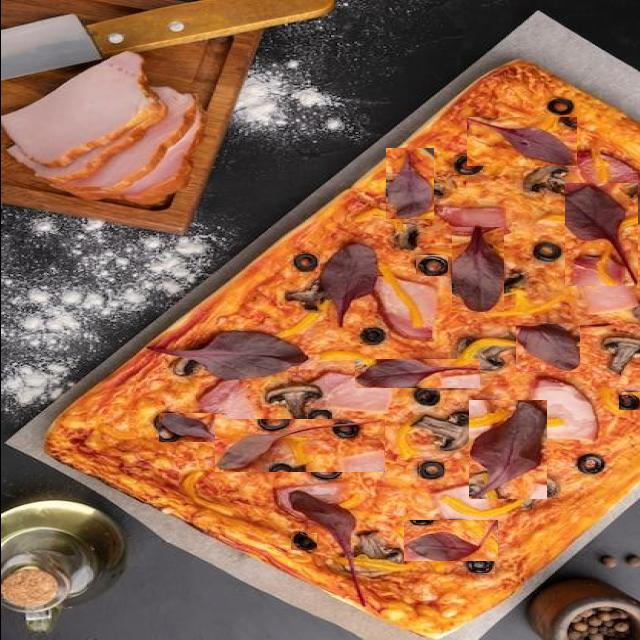basil: (287, 490, 367, 606), (214, 419, 384, 472), (145, 330, 307, 379), (468, 400, 546, 499), (564, 183, 637, 286), (466, 117, 576, 166), (320, 244, 378, 327), (451, 227, 503, 312), (403, 520, 497, 561), (354, 360, 479, 390), (385, 148, 433, 219), (515, 323, 579, 372), (158, 413, 225, 442)
olive: (415, 255, 447, 276), (308, 461, 341, 479), (453, 155, 482, 175), (533, 242, 562, 262), (292, 253, 319, 272), (414, 388, 440, 407), (468, 555, 494, 574), (154, 412, 180, 431), (239, 454, 268, 470), (290, 533, 316, 550), (547, 98, 572, 115), (418, 462, 443, 479), (359, 328, 385, 344), (306, 410, 331, 426), (618, 392, 640, 410)
pizza: (40, 58, 640, 640)
